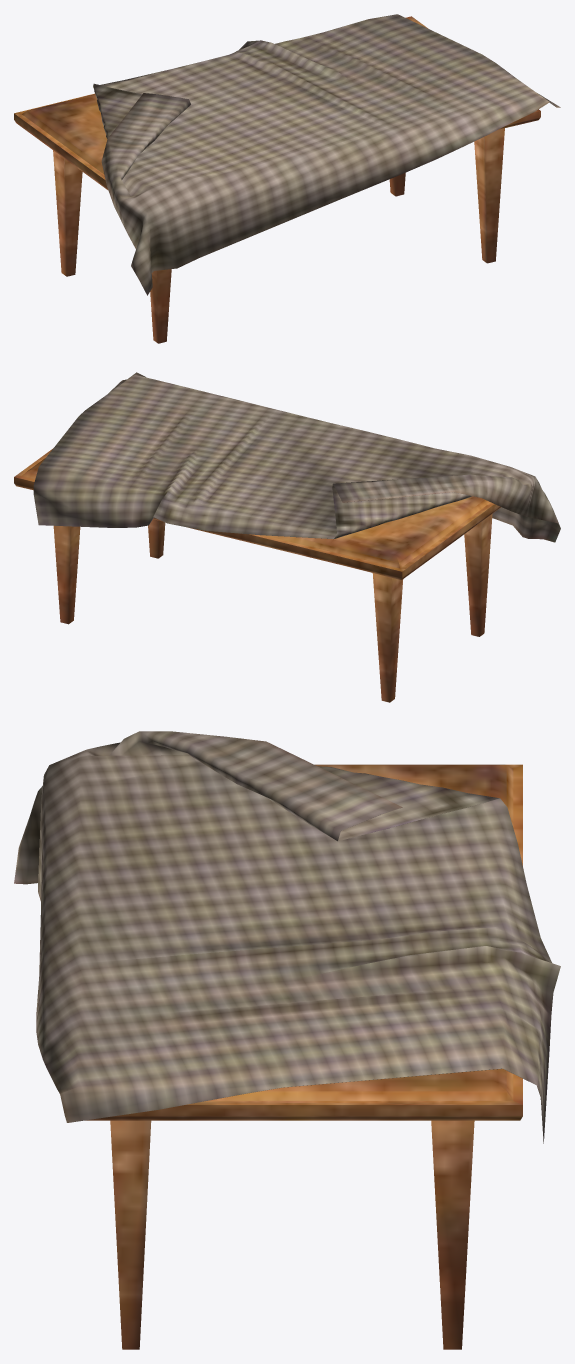
The model's file is dining_table.glb.
3 views of the same model, one above another, from view 1: azimuth 30°, elevation 25°; view 2: azimuth 150°, elevation 25°; view 3: azimuth 270°, elevation 25° (orthographic). The views are drawn at different scales.
Parts seen in each view (by area): view 1: dining_table_cloth, dining_table; view 2: dining_table_cloth, dining_table; view 3: dining_table_cloth, dining_table.
Boxes of the visible parts, x1=… form: dining_table_cloth: x1=93, y1=14, x2=560, y2=295; dining_table: x1=14, y1=16, x2=540, y2=343; dining_table_cloth: x1=33, y1=372, x2=560, y2=542; dining_table: x1=14, y1=448, x2=501, y2=702; dining_table_cloth: x1=14, y1=731, x2=560, y2=1143; dining_table: x1=85, y1=764, x2=522, y2=1349.
Bounding box in the file's own units: 2.26 × 0.877 × 1.39.
Materials: 1 (1 with a texture image).
